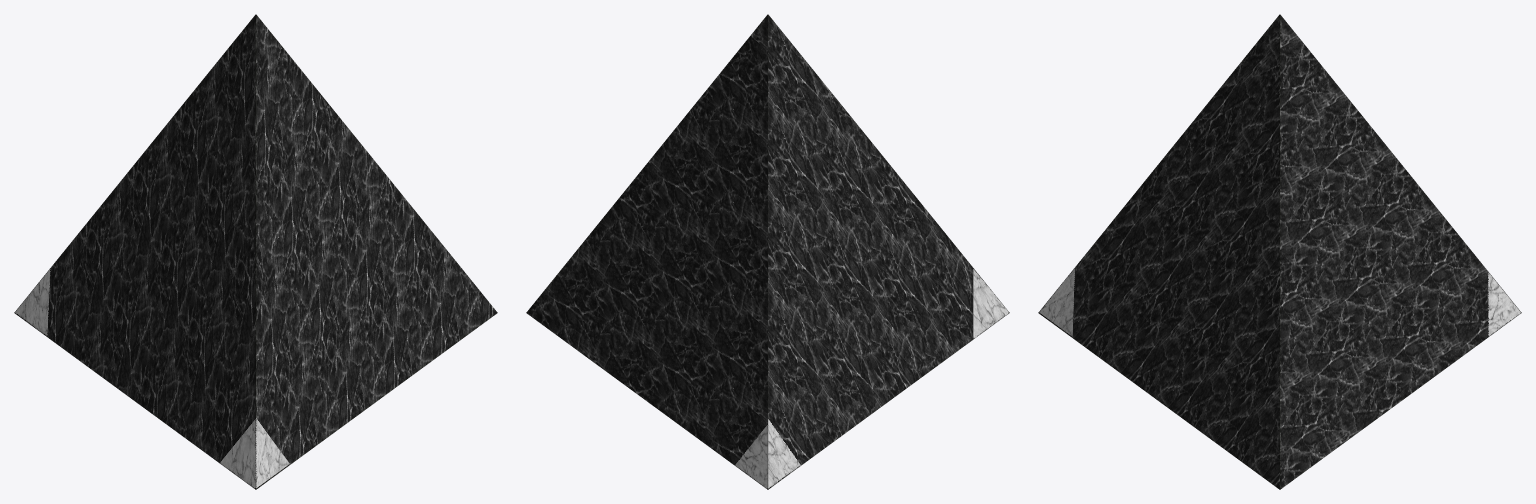
The model's file is die.glb.
The picture shows the model from 3 angles, left to right: view 1: azimuth 30°, elevation 25°; view 2: azimuth 150°, elevation 25°; view 3: azimuth 270°, elevation 25°; orthographic projection.
Parts seen in each view (by area): view 1: Solid; view 2: Solid; view 3: Solid.
Part boxes in pixels (x1,y1,x2,y2): Solid: (14, 14, 497, 489); Solid: (526, 14, 1009, 489); Solid: (1038, 14, 1521, 489).
Size of the model in its own units: 1.41 by 1.33 by 1.63.
Materials: 1 (1 with a texture image).
